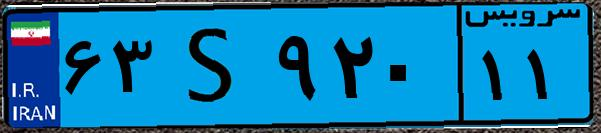0: (385, 28, 445, 110)
1: (475, 38, 525, 113), (525, 38, 570, 115)
2: (330, 28, 385, 110)
3: (110, 28, 158, 98)
6: (57, 26, 110, 100)
9: (270, 28, 330, 110)
S: (158, 12, 270, 120)
